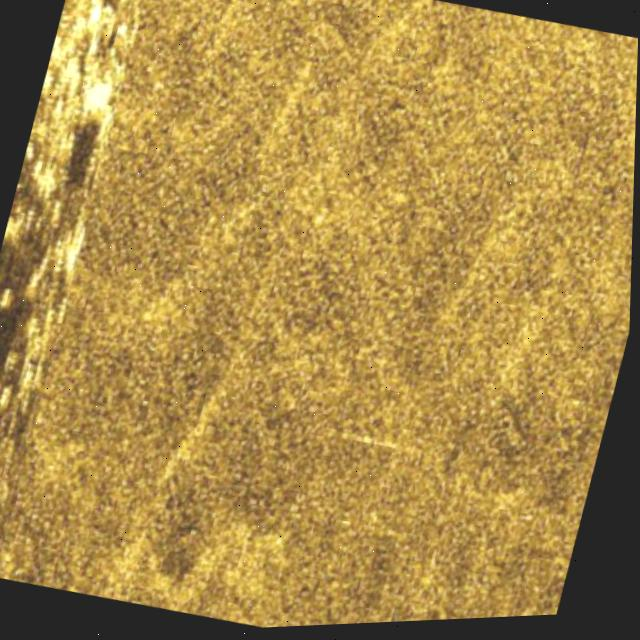bedrock group: (0, 0, 160, 576)
